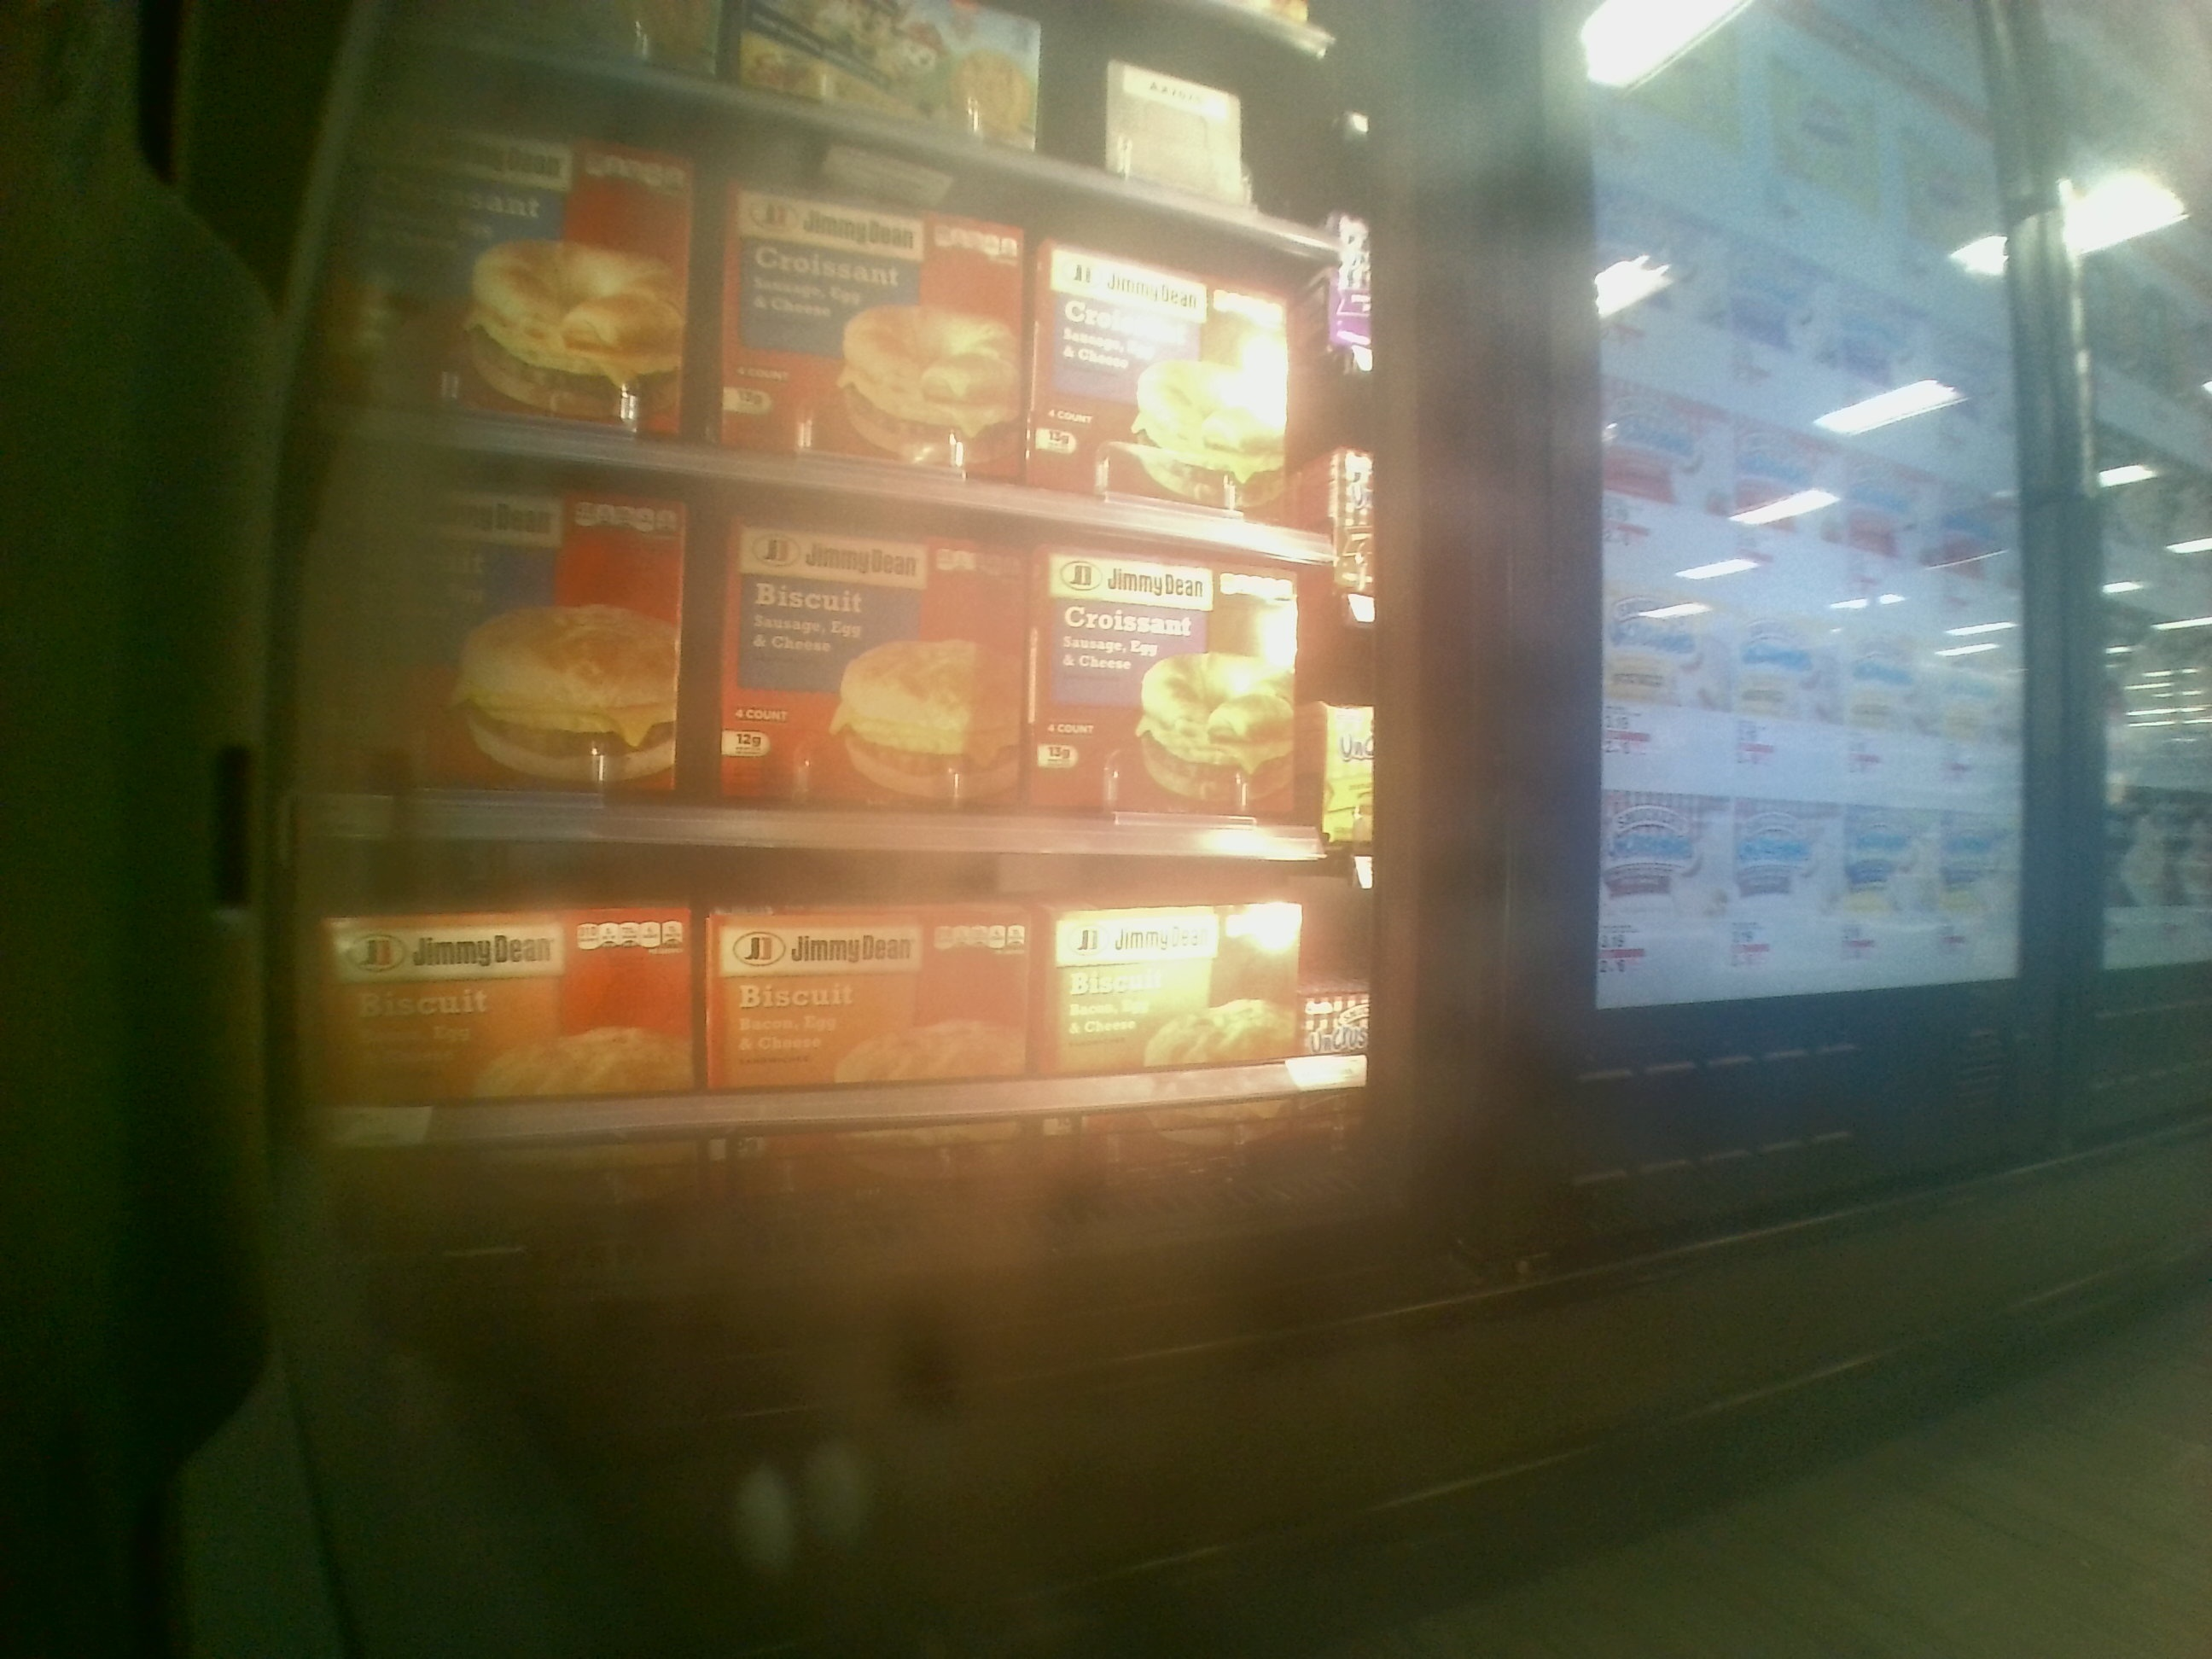shelf: (310, 849, 1390, 1251), (315, 437, 1348, 852)
